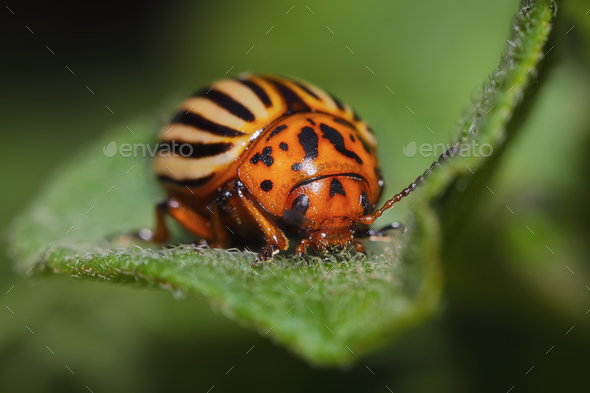hrosc: (152, 67, 383, 250)
